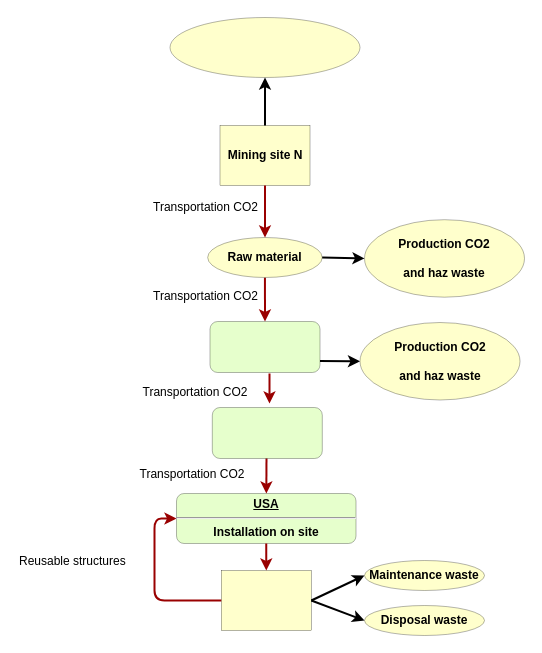
The diagram is 542 pixels wide and 653 high, and some of its shapes have lost their labels. Here are the shapes that lost their labels. From the top down, the centre of each, then its label:
the point at 264,47: Mining waste, CO2
the point at 264,346: Country A Component X
the point at 267,432: Country B Assembly Y
the point at 266,600: Operation
